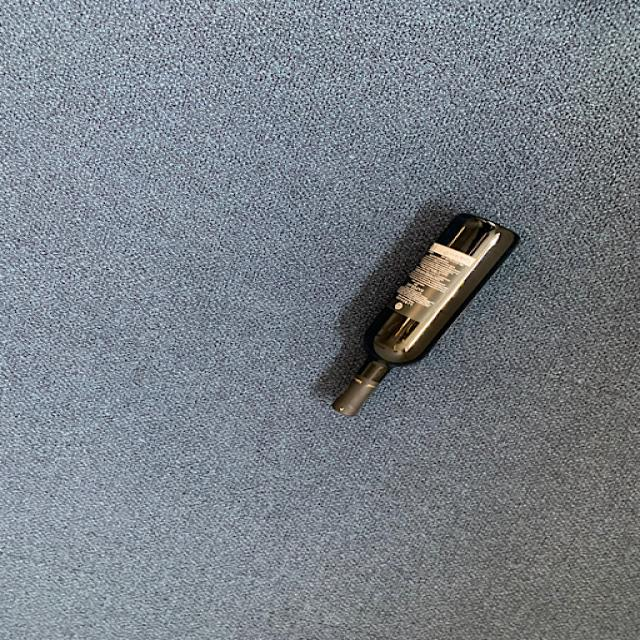litter: (327, 208, 522, 422)
